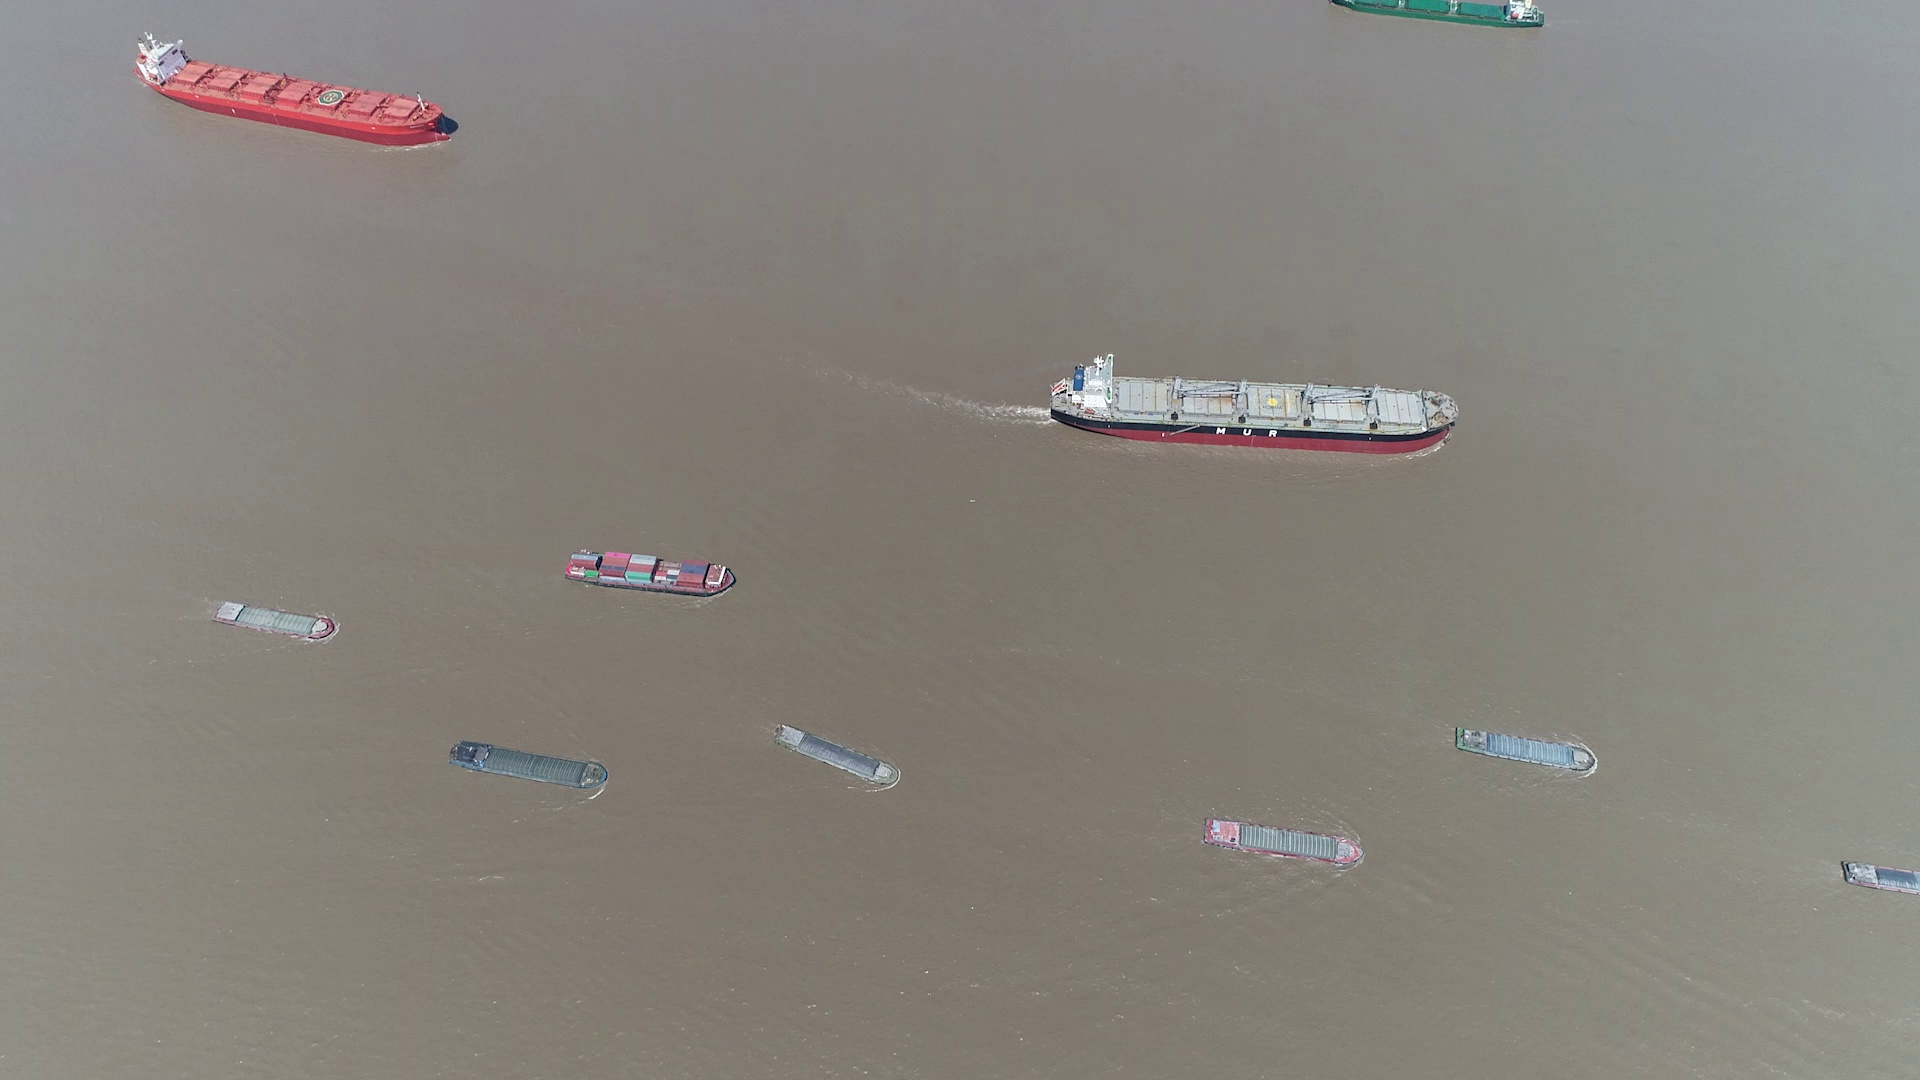ship: (1048, 360, 1458, 454), (138, 32, 454, 142), (564, 549, 738, 596), (452, 740, 611, 789), (777, 727, 899, 789), (1204, 819, 1364, 866), (1451, 727, 1597, 773), (1331, 0, 1547, 28), (211, 601, 338, 642), (1841, 861, 1919, 895)
